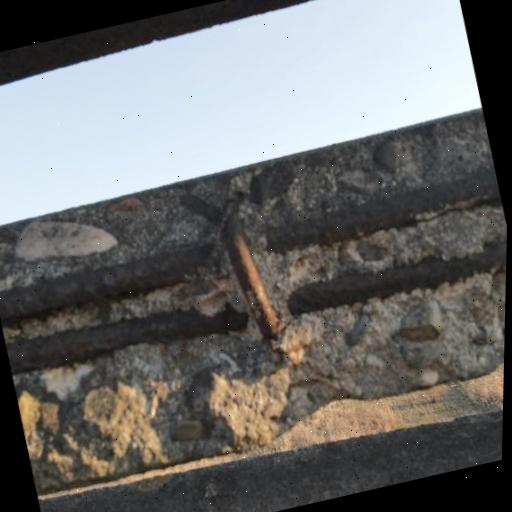exposed_rebar: (266, 169, 502, 254), (0, 243, 214, 324), (7, 303, 248, 374), (288, 241, 507, 316), (222, 208, 280, 339), (180, 194, 221, 224), (173, 419, 206, 441)
spalling: (0, 109, 507, 492)
